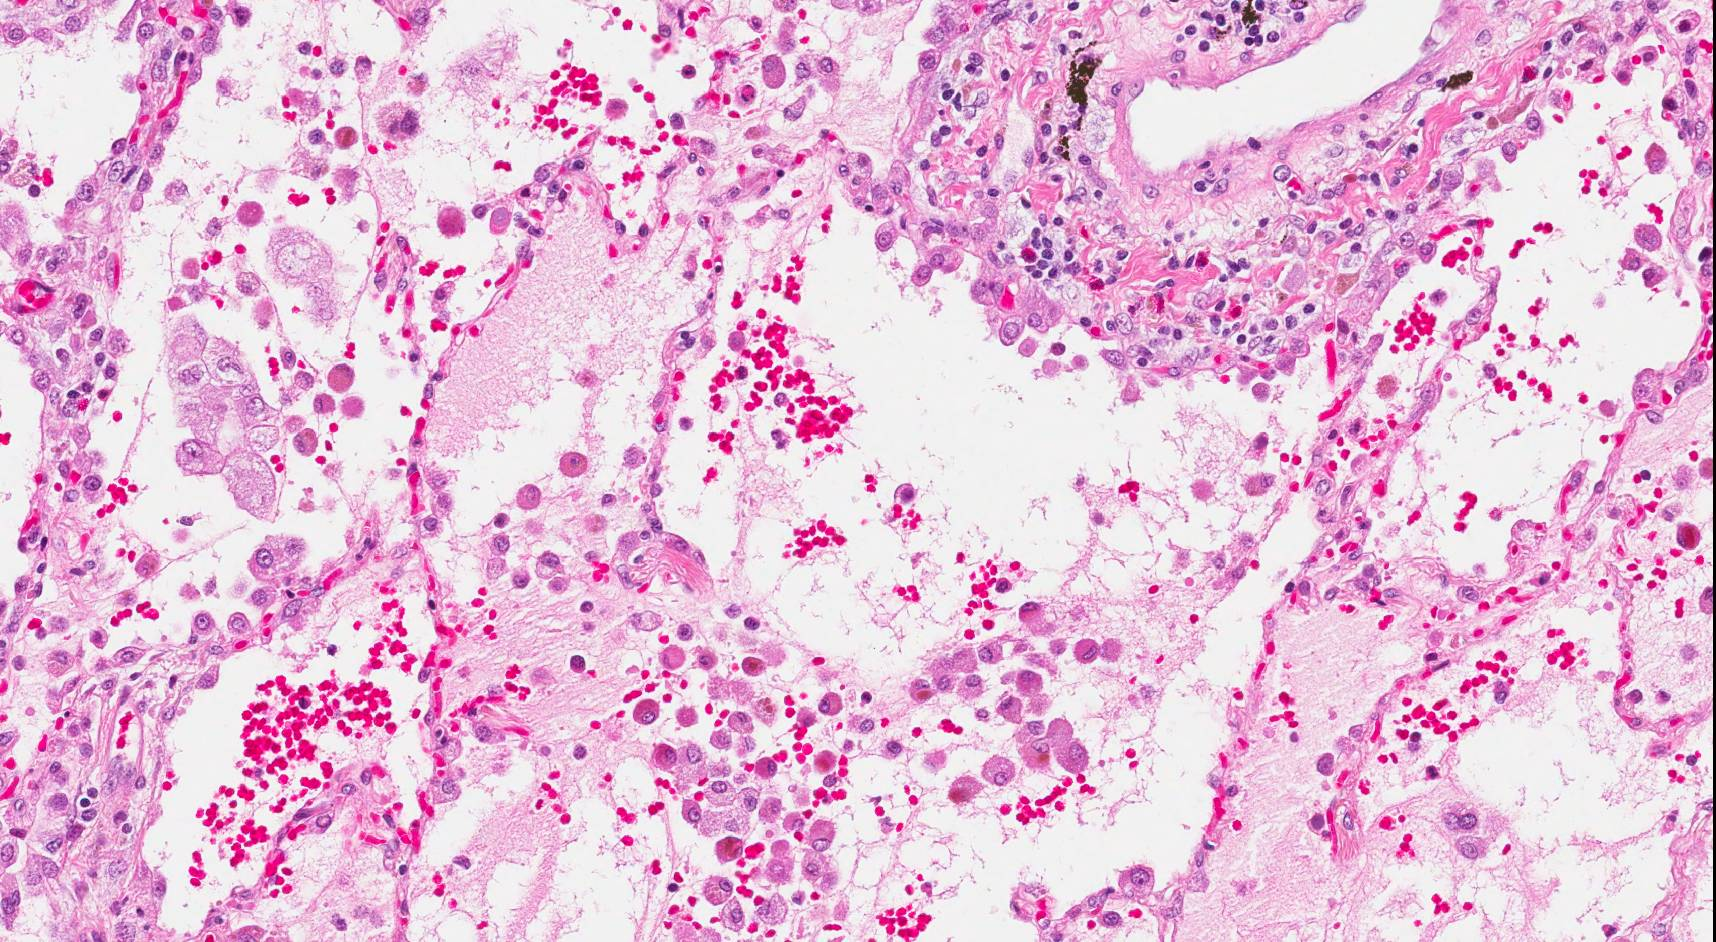stas: (165, 314, 279, 517)
